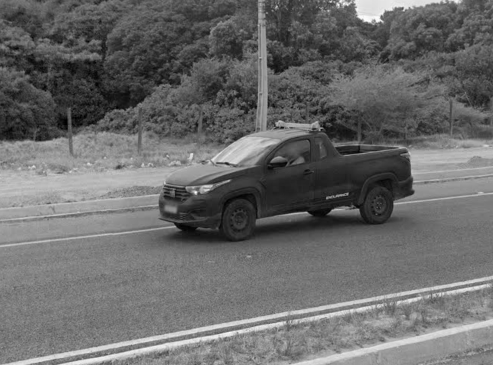car: (156, 119, 416, 241)
